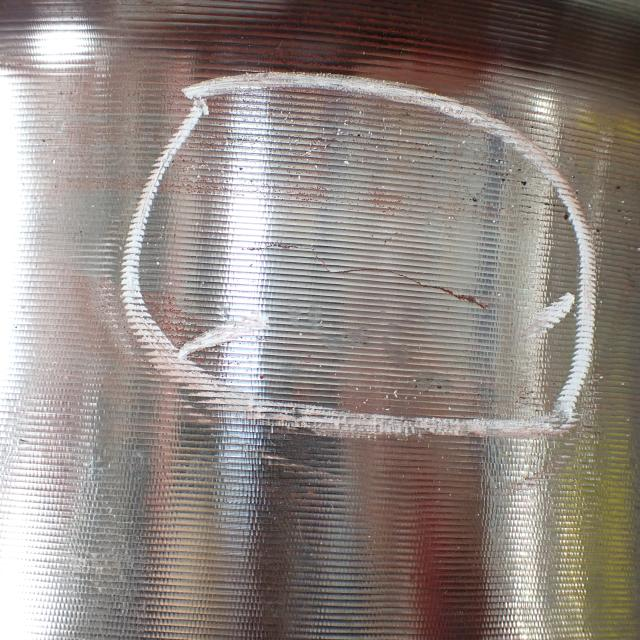Contact_Fatigue_Cracks: (330, 270, 488, 307), (244, 238, 329, 274)
